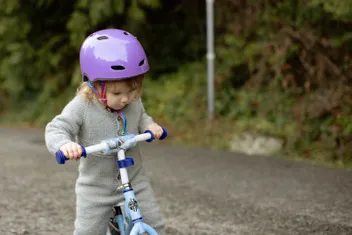helmet: (79, 28, 150, 113)
